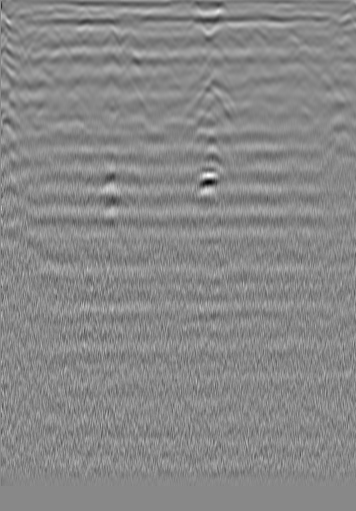상수: (294, 29, 314, 49)
오수: (12, 10, 32, 30)
우수: (150, 32, 170, 52)
